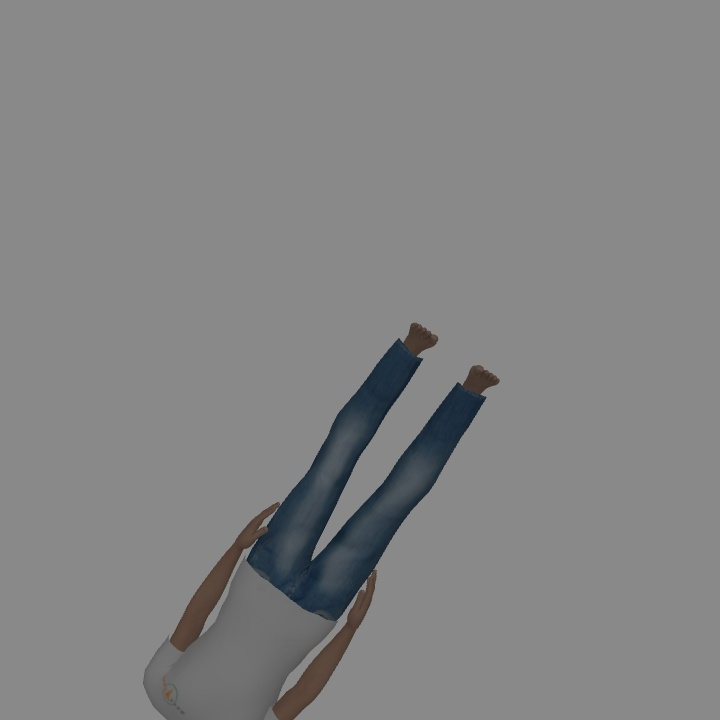victim: (146, 320, 498, 717)
